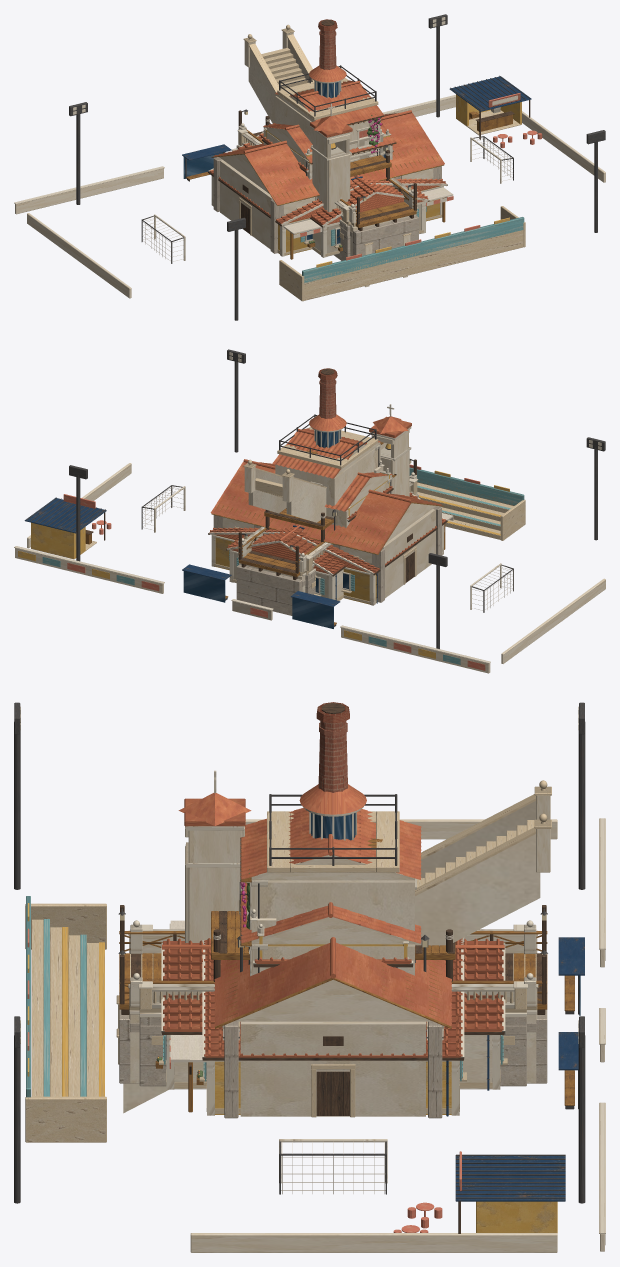
Rendered from kit.glb.
The picture shows the model from 3 angles, top to bottom: view 1: azimuth 30°, elevation 25°; view 2: azimuth 150°, elevation 25°; view 3: azimuth 270°, elevation 25°; orthographic projection. The views are drawn at different scales.
Parts seen in each view (by area): view 1: campinho_LOD0, engenho_LOD0, church_LOD0, market_hall_LOD0, escadaria_LOD0, row_alto_LOD0, bridge_wood_LOD0, lighthouse_LOD0, row_loja_LOD0, bridge_arch_LOD0, chamine_LOD0, bridge_chapel_LOD0 (+1 smaller); view 2: campinho_LOD0, engenho_LOD0, church_LOD0, row_alto_LOD0, bridge_wood_LOD0, market_hall_LOD0, escadaria_LOD0, lighthouse_LOD0, row_loja_LOD0, chamine_LOD0, bridge_arch_LOD0, dock_wood_LOD0 (+1 smaller); view 3: campinho_LOD0, engenho_LOD0, church_LOD0, escadaria_LOD0, row_alto_LOD0, market_hall_LOD0, lighthouse_LOD0, row_loja_LOD0, bridge_wood_LOD0, bridge_arch_LOD0, bridge_chapel_LOD0, chamine_LOD0 (+1 smaller).
Boxes of the visible parts, bbox=[...] form: campinho_LOD0: bbox=[14, 14, 605, 320]; engenho_LOD0: bbox=[211, 110, 444, 253]; church_LOD0: bbox=[234, 103, 429, 257]; market_hall_LOD0: bbox=[208, 168, 453, 259]; escadaria_LOD0: bbox=[243, 24, 411, 287]; row_alto_LOD0: bbox=[275, 80, 384, 158]; bridge_wood_LOD0: bbox=[236, 109, 418, 255]; lighthouse_LOD0: bbox=[277, 65, 378, 120]; row_loja_LOD0: bbox=[263, 121, 396, 179]; bridge_arch_LOD0: bbox=[237, 123, 418, 260]; chamine_LOD0: bbox=[318, 19, 337, 69]; bridge_chapel_LOD0: bbox=[238, 123, 417, 256]; campinho_LOD0: bbox=[14, 349, 605, 673]; engenho_LOD0: bbox=[210, 459, 444, 602]; church_LOD0: bbox=[226, 404, 420, 600]; row_alto_LOD0: bbox=[272, 428, 383, 524]; bridge_wood_LOD0: bbox=[236, 459, 418, 615]; market_hall_LOD0: bbox=[208, 513, 453, 605]; escadaria_LOD0: bbox=[243, 459, 326, 522]; lighthouse_LOD0: bbox=[277, 414, 378, 469]; row_loja_LOD0: bbox=[273, 471, 396, 527]; chamine_LOD0: bbox=[318, 368, 337, 418]; bridge_arch_LOD0: bbox=[237, 478, 418, 594]; dock_wood_LOD0: bbox=[264, 508, 333, 542]; campinho_LOD0: bbox=[14, 702, 605, 1252]; engenho_LOD0: bbox=[214, 937, 451, 1118]; church_LOD0: bbox=[155, 770, 507, 1090]; escadaria_LOD0: bbox=[116, 780, 551, 1113]; row_alto_LOD0: bbox=[239, 808, 421, 936]; market_hall_LOD0: bbox=[169, 920, 466, 1116]; lighthouse_LOD0: bbox=[267, 784, 399, 872]; row_loja_LOD0: bbox=[240, 882, 421, 976]; bridge_wood_LOD0: bbox=[118, 905, 547, 1083]; bridge_arch_LOD0: bbox=[138, 924, 527, 1086]; bridge_chapel_LOD0: bbox=[128, 920, 538, 1083]; chamine_LOD0: bbox=[316, 702, 349, 792].
Size of what is drawn, in the model's own units: 48.25 by 20.94 by 29.04.
Materials: 1 (1 with a texture image).
